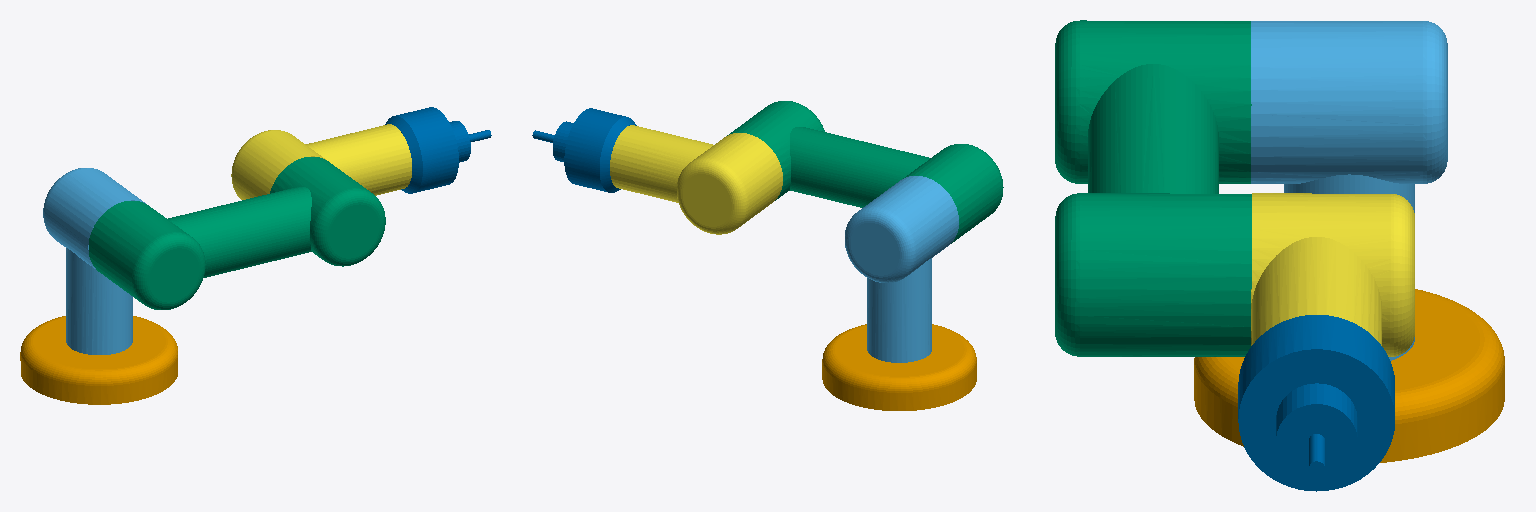
The robot description file, URDF, robot "example":
<?xml version="1.0" ?>
<!-- =================================================================================== -->
<!-- |    This document was autogenerated by xacro from /tmp/my-robot.sub.xacro        | -->
<!-- |    EDITING THIS FILE BY HAND IS NOT RECOMMENDED                                 | -->
<!-- =================================================================================== -->
<robot name="example">
  <link name="link_0">
    <visual>
      <geometry>
        <mesh filename="package://robot/meshes/link_0.stl"/>
      </geometry>
    </visual>
  </link>
  <joint name="base_to_link1" type="revolute">
    <axis xyz="0 0 1"/>
    <limit effort="100" lower="-1.5708" upper="1.5708" velocity="1.0"/>
    <origin rpy="0 0 0" xyz="0 0 0.2"/>
    <parent link="link_0"/>
    <child link="link_1"/>
  </joint>
  <link name="link_1">
    <visual>
      <geometry>
        <mesh filename="package://robot/meshes/link_1.stl"/>
      </geometry>
      <origin rpy="0 0 0" xyz="0 0 0"/>
    </visual>
  </link>
  <joint name="link1_link2" type="revolute">
    <axis xyz="0 0 1"/>
    <limit effort="100" lower="-1.5708" upper="1.5708" velocity="1.0"/>
    <origin rpy="1.57 0 0" xyz="0 -0.12 0"/>
    <parent link="link_1"/>
    <child link="link_2"/>
  </joint>
  <link name="link_2">
    <visual>
      <geometry>
        <mesh filename="package://robot/meshes/link_2.stl"/>
      </geometry>
      <origin rpy="3.14 0 0" xyz="0 0 0"/>
    </visual>
  </link>
  <joint name="link2_link3" type="revolute">
    <axis xyz="0 0 1"/>
    <limit effort="100" lower="-1.5708" upper="1.5708" velocity="1.0"/>
    <origin rpy="0 0 0" xyz="0.25 0 -0.1"/>
    <parent link="link_2"/>
    <child link="link_3"/>
  </joint>
  <link name="link_3">
    <visual>
      <geometry>
        <mesh filename="package://robot/meshes/link_3.stl"/>
      </geometry>
      <origin rpy="3.14 0 0" xyz="0 0 0"/>
    </visual>
  </link>
  <joint name="link3_end" type="fixed">
    <origin rpy="0 0 0" xyz="0.28 0 0"/>
    <parent link="link_3"/>
    <child link="end_effector"/>
  </joint>
  <link name="end_effector">
    <visual>
      <geometry>
        <mesh filename="package://robot/meshes/end_effector.stl"/>
      </geometry>
      <origin rpy="0 1.5708 0" xyz="0 0 0"/>
    </visual>
  </link>
</robot>

--- Render facts (derived) ---
Views: 3 orthographic renders of the robot side by side, from view 1: azimuth 30°, elevation 25°; view 2: azimuth 150°, elevation 25°; view 3: azimuth 270°, elevation 25°.
Model example with 5 links and 4 joints (3 revolute, 1 fixed), rooted at link_0, posed every joint at zero.
Visible links, largest first — view 1: link_2, link_1, link_0, link_3, end_effector; view 2: link_2, link_1, link_3, link_0, end_effector; view 3: link_2, link_1, end_effector, link_3, link_0.
Link boxes in pixels (x1,y1,x2,y2): link_2: [89, 157, 385, 309]; link_1: [43, 168, 145, 354]; link_0: [20, 316, 177, 404]; link_3: [231, 124, 411, 199]; end_effector: [385, 107, 491, 193]; link_2: [727, 101, 1003, 243]; link_1: [845, 176, 958, 362]; link_3: [610, 125, 782, 234]; link_0: [822, 324, 976, 410]; end_effector: [532, 108, 636, 192]; link_2: [1055, 20, 1251, 356]; link_1: [1251, 21, 1447, 360]; end_effector: [1238, 315, 1394, 491]; link_3: [1251, 193, 1414, 356]; link_0: [1194, 289, 1504, 462].
Size in the robot's own frame: 0.625 by 0.2751 by 0.2501 metres.
5 mesh visuals loaded from 5 distinct referenced files (5 binary STL).
